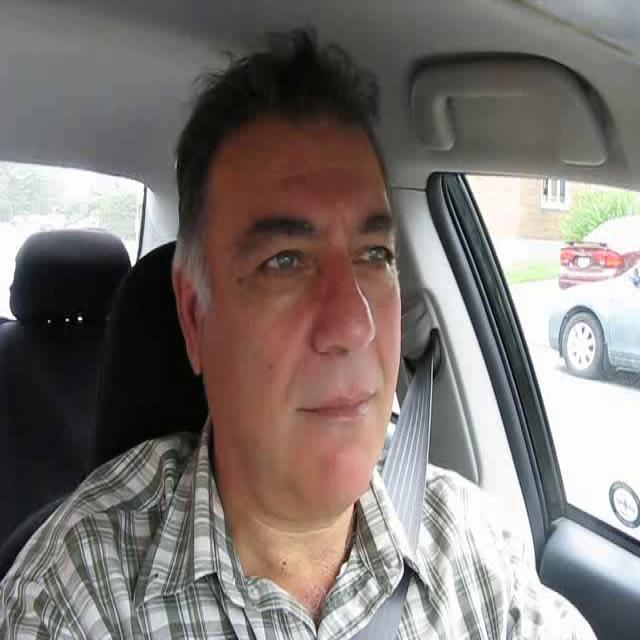close: (294, 377, 389, 431)
